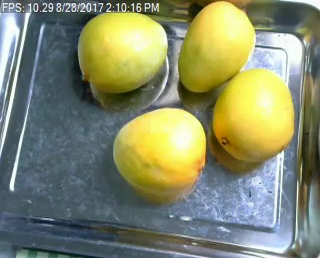Mango: (109, 107, 208, 195), (211, 70, 296, 159), (75, 12, 166, 95), (175, 1, 253, 91)
